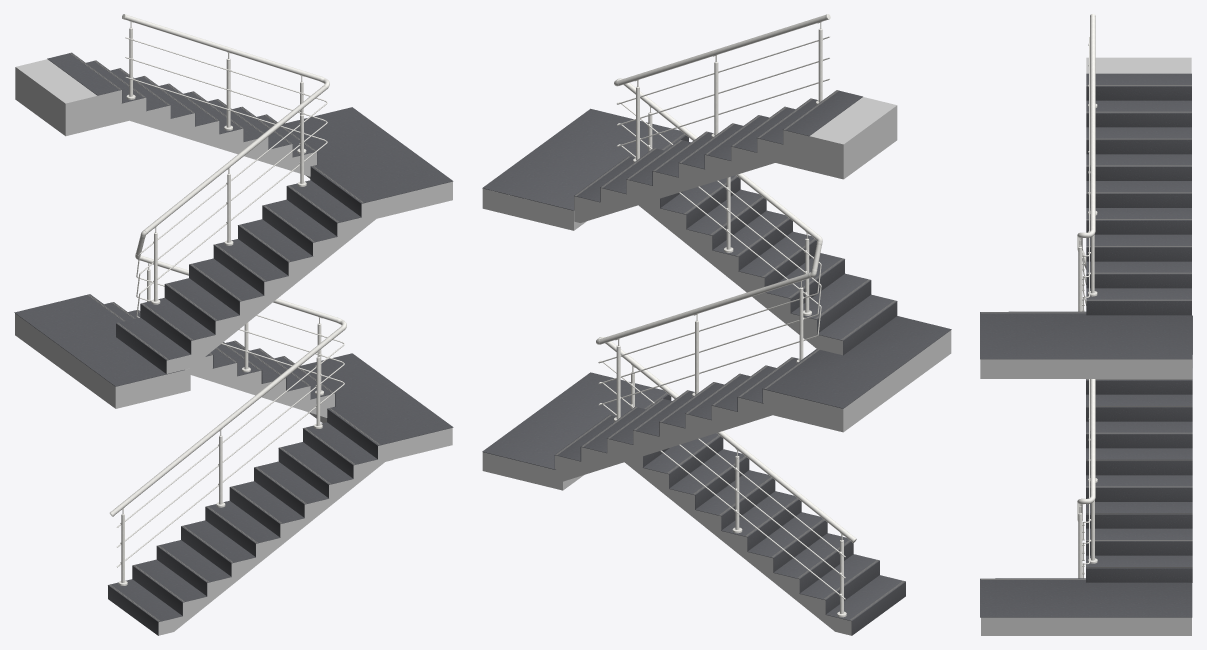
The model's file is stair_midpoly__game_ready.glb.
The picture shows the model from 3 angles, left to right: view 1: azimuth 30°, elevation 25°; view 2: azimuth 150°, elevation 25°; view 3: azimuth 270°, elevation 25°; orthographic projection. The views are drawn at different scales.
Parts seen in each view (by area): view 1: fencing, stair.022, Cube.130, Cube.180, Cube.185, stair.083, stair.002, stair.081, stair.080, stair.101, stair.079, Cube.175 (+36 smaller); view 2: fencing, stair.022, Cube.130, Cube.185, Cube.180, stair.080, stair.002, stair.083, stair.081, stair.101, stair.079, Cube.175 (+46 smaller); view 3: Cube.130, Cube.180, fencing, stair.101, stair.079, stair.022, Cube.048, Cube.134, Cube.053, Cube.068, Cube.073, Cube.144 (+27 smaller).
Part boxes in pixels (x1,y1,x2,y2): fencing: (109, 14, 346, 585); stair.022: (15, 59, 316, 176); Cube.130: (282, 107, 453, 203); Cube.180: (299, 353, 453, 445); Cube.185: (14, 294, 184, 386); stair.083: (166, 217, 375, 373); stair.002: (15, 313, 190, 408); stair.081: (158, 459, 392, 635); stair.080: (190, 355, 334, 417); stair.101: (305, 175, 452, 222); stair.079: (308, 412, 452, 463); Cube.175: (47, 52, 122, 95); fencing: (596, 14, 856, 617); stair.022: (574, 97, 897, 222); Cube.130: (482, 108, 685, 210); Cube.185: (762, 316, 951, 408); Cube.180: (482, 372, 668, 469); stair.080: (555, 397, 772, 481); stair.002: (763, 330, 951, 432); stair.083: (638, 198, 842, 355); stair.081: (624, 456, 851, 635); stair.101: (482, 188, 586, 230); stair.079: (482, 452, 583, 490); Cube.175: (783, 90, 862, 136); Cube.130: (980, 311, 1192, 359); Cube.180: (980, 578, 1192, 617); fencing: (1077, 14, 1097, 578); stair.101: (980, 359, 1192, 378); stair.079: (981, 617, 1191, 635); stair.022: (1086, 57, 1191, 73); Cube.048: (1086, 568, 1192, 582); Cube.134: (1086, 301, 1191, 315); Cube.053: (1086, 541, 1192, 555); Cube.068: (1086, 461, 1192, 475); Cube.073: (1086, 434, 1192, 448); Cube.144: (1086, 247, 1191, 261).
Size of the model in its own units: 3.88 by 6.34 by 2.02.
Materials: 4 (3 with a texture image).
